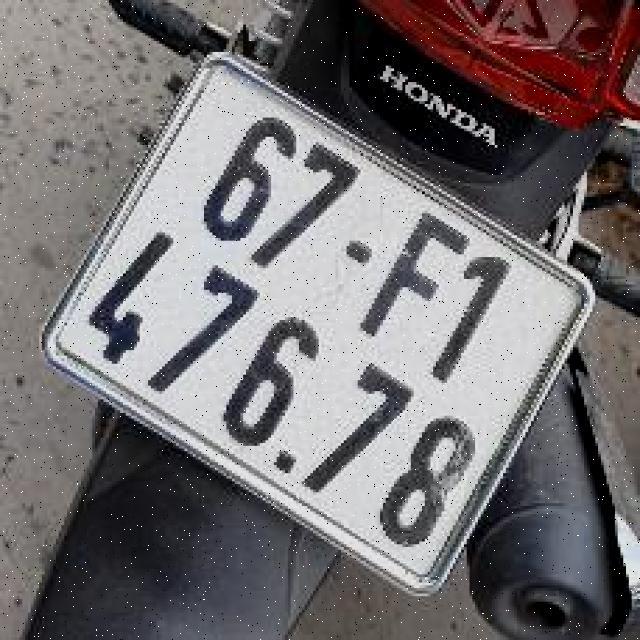1: (410, 237, 529, 405)
4: (71, 213, 215, 385)
6: (202, 292, 351, 470), (190, 100, 313, 252)
7: (129, 250, 272, 416), (230, 129, 377, 286), (287, 352, 427, 509)
8: (364, 392, 503, 563)
F: (351, 197, 483, 366)
